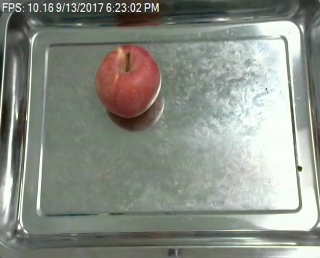Apple: (91, 41, 164, 121)
